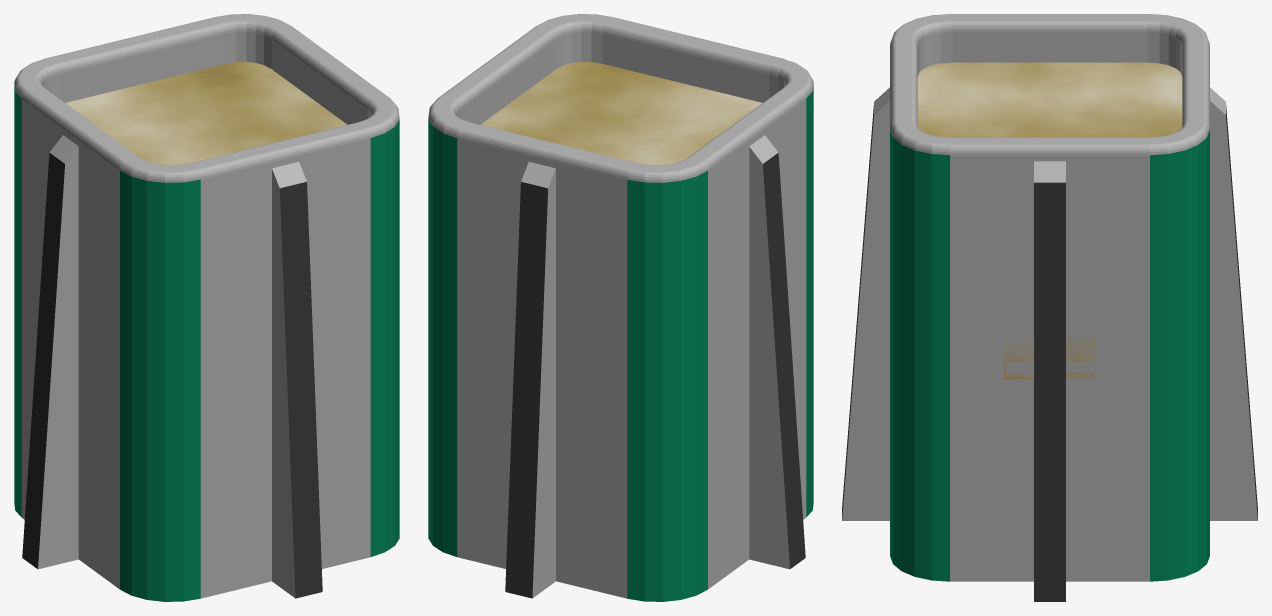
Rendered from voal assets high res.fbx.
3 renders of one model, left to right at view 1: azimuth 30°, elevation 25°; view 2: azimuth 150°, elevation 25°; view 3: azimuth 270°, elevation 25°, orthographic.
Visible parts, largest first — view 1: Hesco; view 2: Hesco; view 3: Hesco, Humvee.
Part boxes in pixels (box(x1,y1,x2,y2)): Hesco: box(14, 14, 399, 601); Hesco: box(428, 14, 813, 601); Hesco: box(842, 14, 1257, 601); Humvee: box(1004, 338, 1095, 378).
Bounding box in the file's own units: 2600 × 3000 × 2600.
